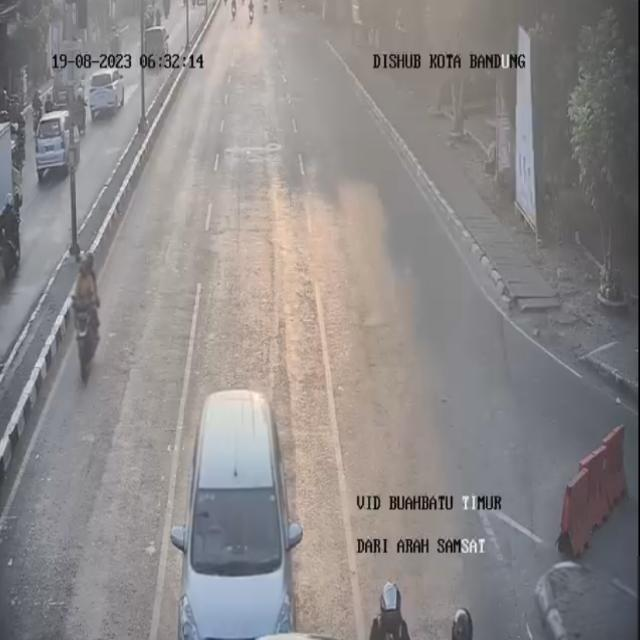cars: (184, 387, 296, 640), (534, 556, 640, 640)
motorcycle: (67, 253, 104, 376), (361, 575, 421, 640), (242, 0, 259, 29), (228, 0, 245, 25), (259, 0, 273, 19)
